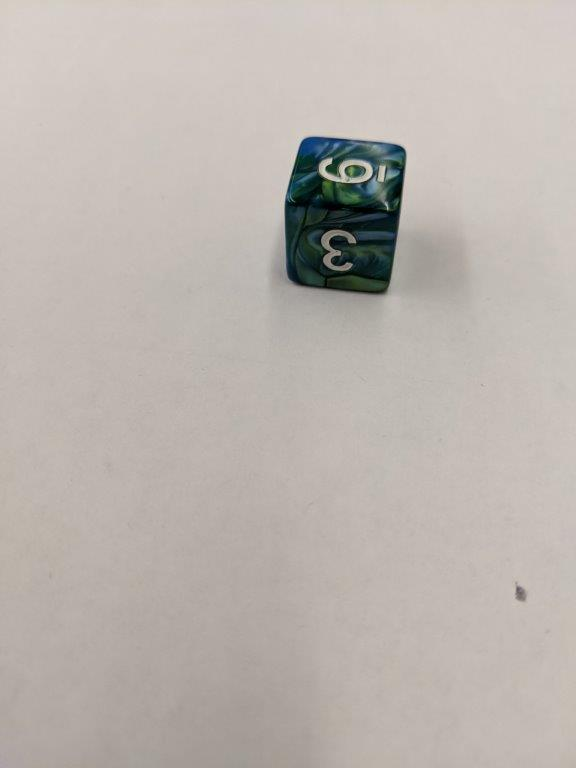d6-6: (284, 136, 404, 296)
